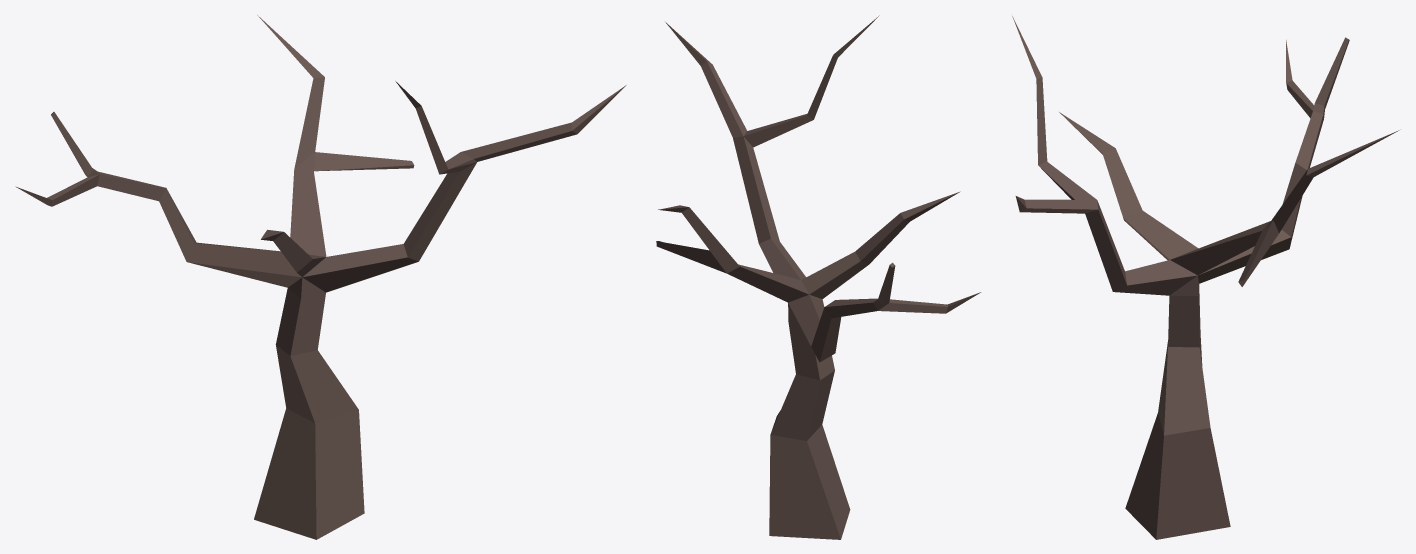
File: deadtree.fbx
3 views of the same model, side by side, from view 1: azimuth 30°, elevation 25°; view 2: azimuth 150°, elevation 25°; view 3: azimuth 270°, elevation 25° (orthographic). The views are drawn at different scales.
Visible parts, largest first — view 1: deadtree; view 2: deadtree; view 3: deadtree.
Boxes of the visible parts, x1,y1,x2,y2 form: deadtree: (15, 15, 626, 539); deadtree: (656, 15, 981, 539); deadtree: (1012, 16, 1399, 539).
Bounding box in the file's own units: 7.84 × 7.72 × 5.4.
